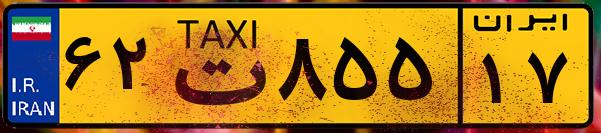1: (475, 38, 525, 113)
2: (110, 28, 158, 98)
5: (385, 28, 445, 110), (330, 28, 385, 110)
6: (57, 26, 110, 100)
7: (525, 38, 570, 115)
8: (270, 28, 330, 110)
ت: (158, 12, 270, 120)
